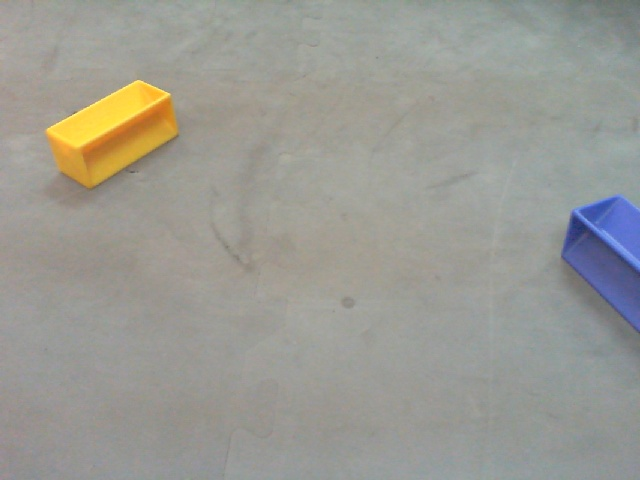BlueSample: (557, 188, 640, 338)
YellowSample: (43, 78, 185, 195)
